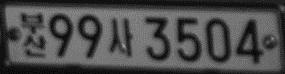0: (205, 17, 232, 63)
3: (143, 15, 171, 62)
4: (234, 17, 263, 63)
5: (175, 16, 202, 63)
9: (76, 13, 103, 59), (48, 13, 74, 58)
부산_V: (19, 12, 47, 58)
사: (108, 17, 134, 56)
